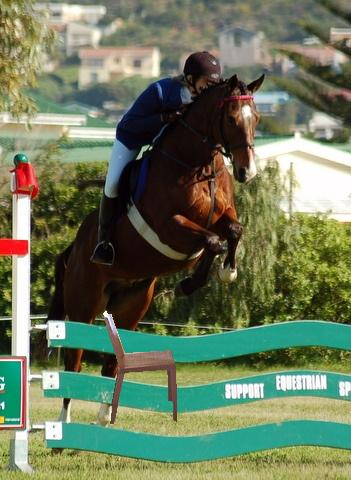tampered: (104, 312, 177, 424)
